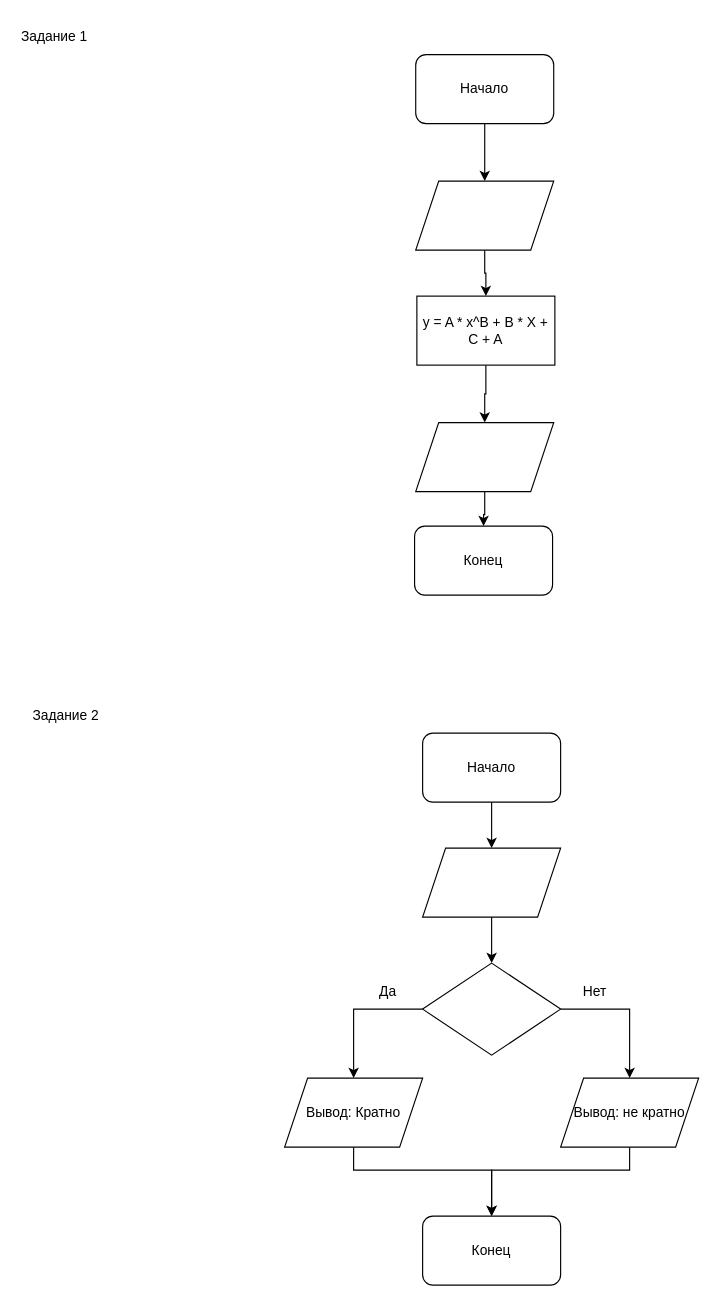
Image size: 719x1305. Some labels were removed from this diagram. Each missing label, with the centre of its shape:
a % b == 0?: point (491, 1008)
Ввод a, b: point (491, 882)
Ввод: A, B, C, x: point (484, 215)
Вывод: y: point (484, 456)
